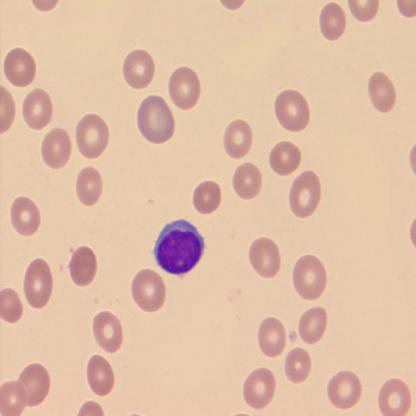Lymphocyte: (152, 218, 205, 278)
